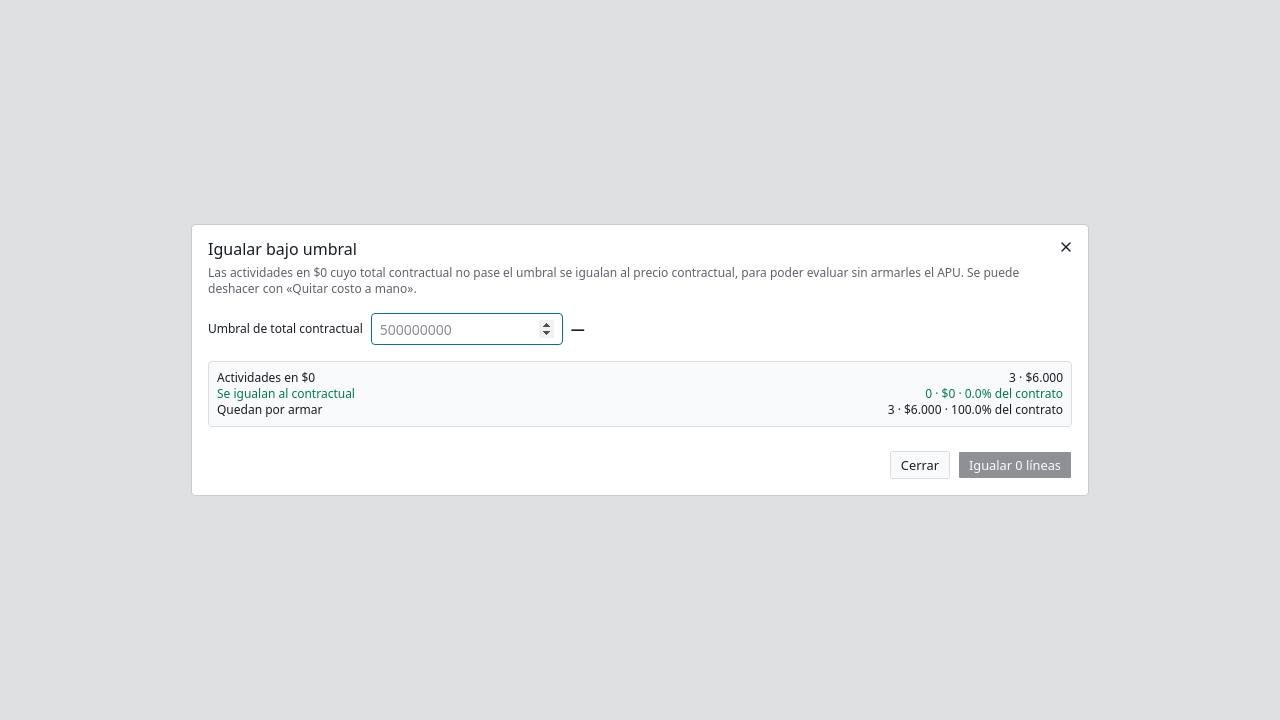
Test: DialogoUmbralCosto › destildar una fila mueve el resumen: conteo, monto y porcentaje
Type "5000" into the number field labelled "Umbral de total contractual" at (467, 329), box [371,313,563,345]
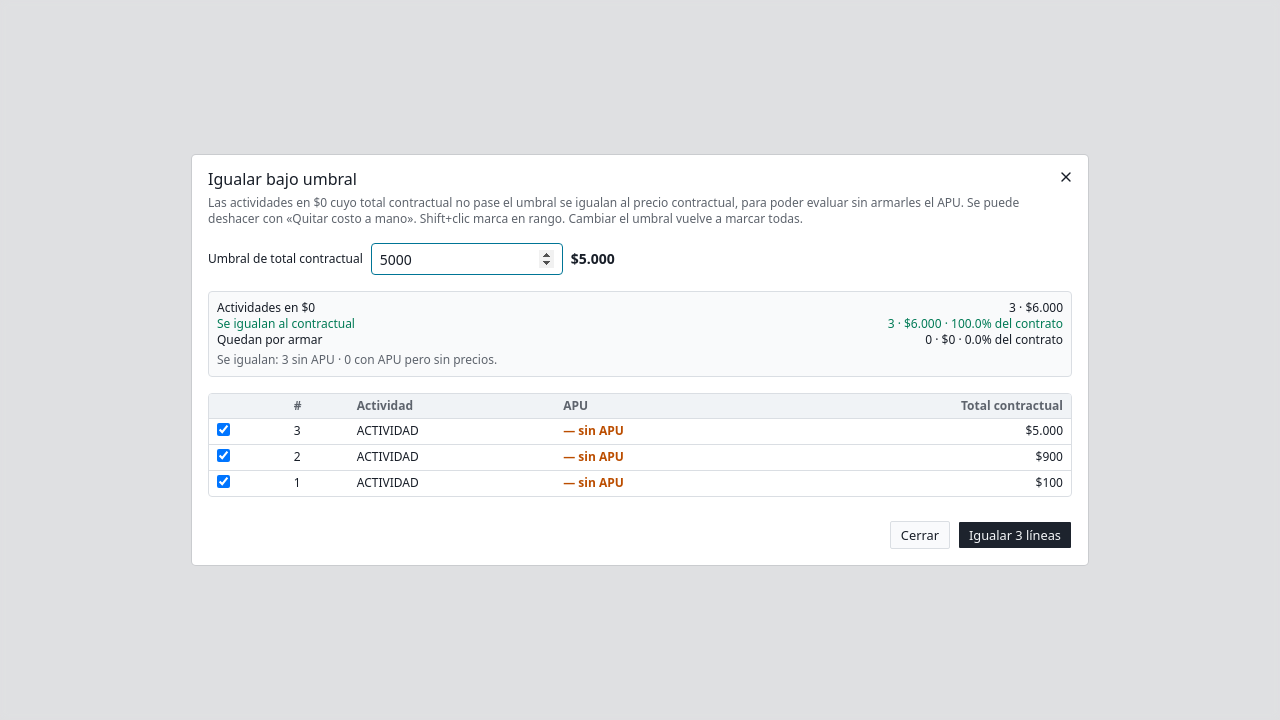
Click the checkbox named "Marcar línea 1" at (224, 430), box [217,423,230,436]
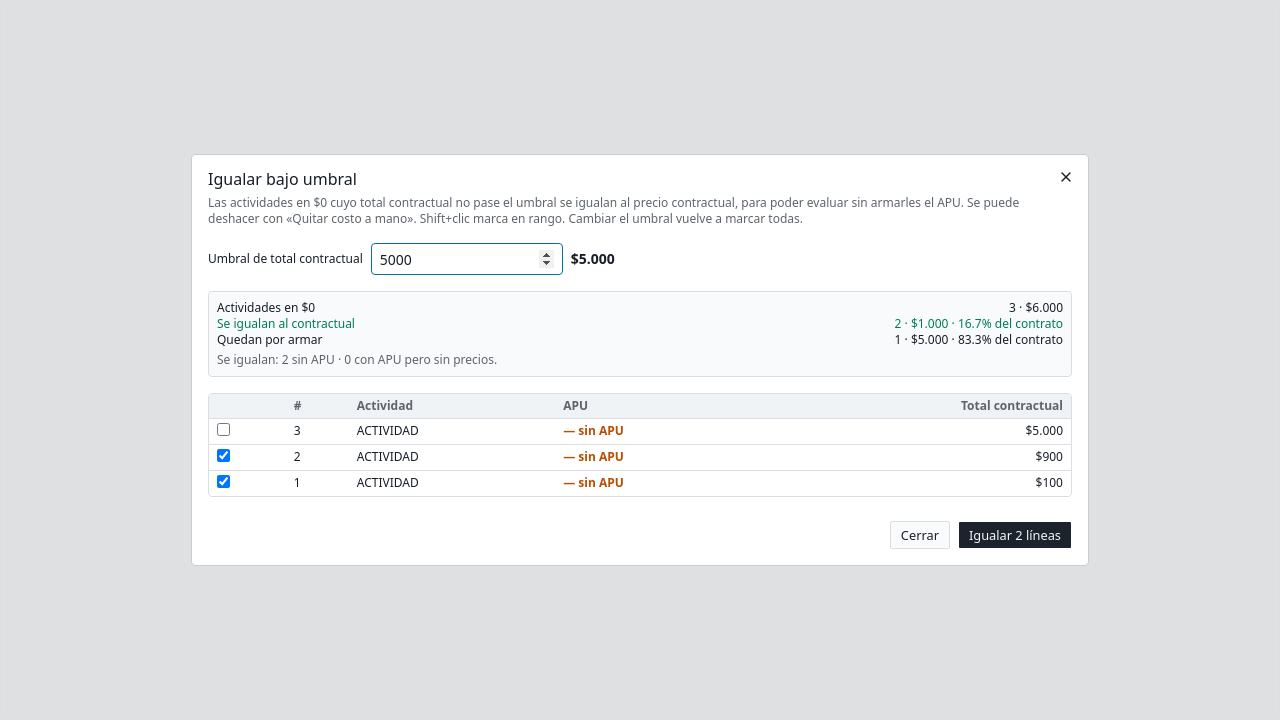
Expected: the checkbox named "Marcar línea 1" is not checked, [217,423,230,436]
Expected: the text "2 · $1.000 · 16.7% del contrato" is shown, [894,316,1063,332]
Expected: the text "1 · $5.000 · 83.3% del contrato" is shown, [894,332,1063,348]
